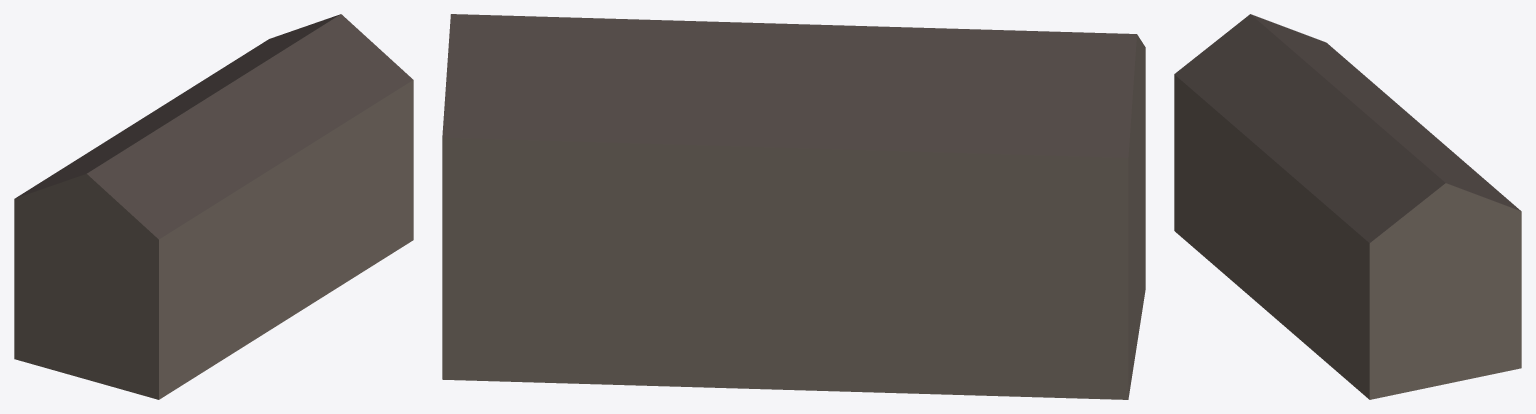
3 views of the same model, side by side, from view 1: azimuth 30°, elevation 25°; view 2: azimuth 150°, elevation 25°; view 3: azimuth 270°, elevation 25° (orthographic). The views are drawn at different scales.
Visible parts, largest first — view 1: HP-w859086196; view 2: HP-w859086196; view 3: HP-w859086196.
Boxes of the visible parts, x1,y1,x2,y2 form: HP-w859086196: [14, 14, 413, 399]; HP-w859086196: [442, 14, 1145, 399]; HP-w859086196: [1174, 14, 1521, 399].
Size of the model in its own units: 24.74 by 11.55 by 18.09.
